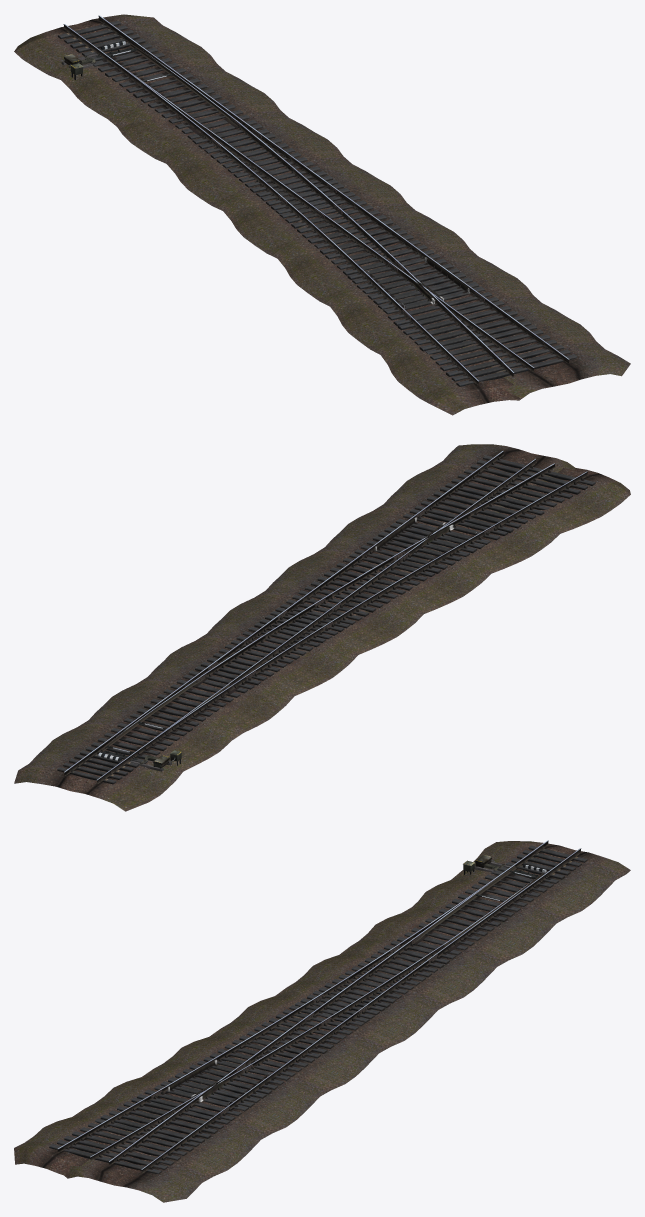
The model's file is TSM_Jction_1d9_L_Nz.gltf.
3 views of the same model, one above another, from view 1: azimuth 30°, elevation 25°; view 2: azimuth 150°, elevation 25°; view 3: azimuth 330°, elevation 25° (orthographic). The views are drawn at different scales.
Bounding box in the file's own units: 8.93 × 0.9462 × 38.97.
1 material, 1 textured.
